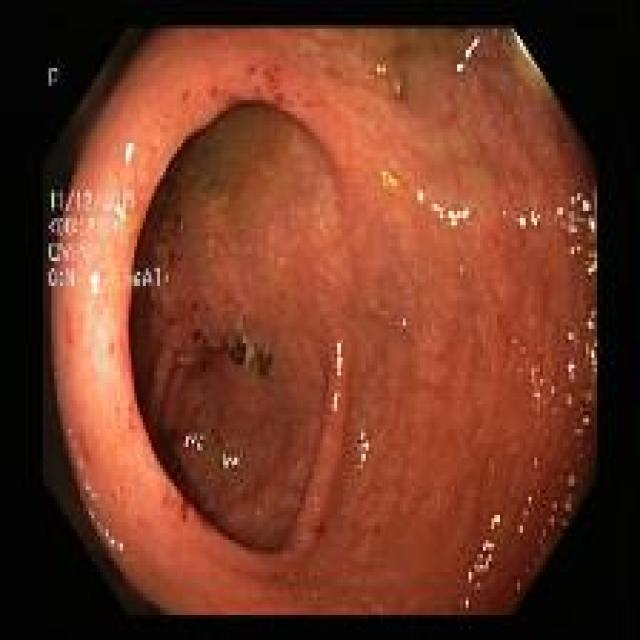ulcerative-colitis: (130, 36, 596, 612)
